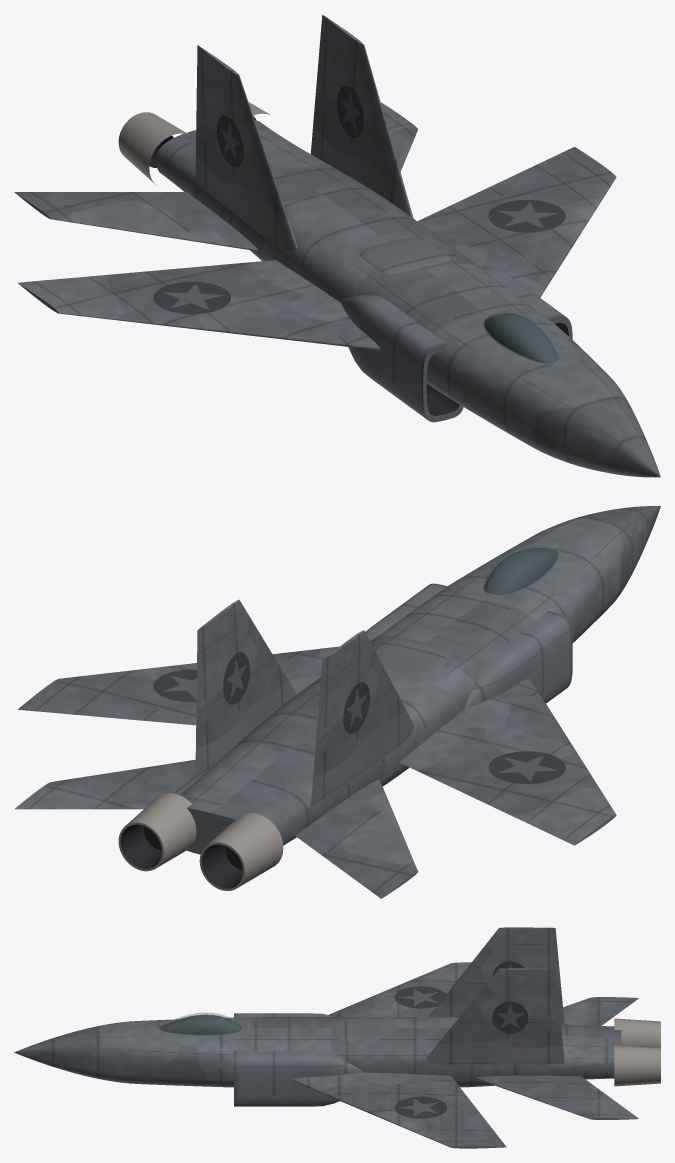
3 renders of one model, top to bottom at view 1: azimuth 30°, elevation 25°; view 2: azimuth 150°, elevation 25°; view 3: azimuth 270°, elevation 25°, orthographic. The views are drawn at different scales.
Visible parts, largest first — view 1: Fuselage, Wing0_R, Wing0_L, Fin2_R, Fin2_L, Htail1_R, Intake_R, Canopy, Nozzle_R, Cockpit, Airbrake, Decal_Wing_U_R (+5 smaller); view 2: Fuselage, Wing0_R, Fin2_R, Fin2_L, Wing0_L, Htail1_R, Intake_R, Htail1_L, Nozzle_R, Nozzle_L, Canopy, Cockpit (+6 smaller); view 3: Fuselage, Fin2_L, Wing0_L, Intake_L, Fin2_R, Htail1_L, Wing0_R, Nozzle_L, Htail1_R, Canopy, Cockpit, Nozzle_R (+5 smaller).
Boxes of the visible parts, x1,y1,x2,y2 form: Fuselage: [156, 120, 660, 477]; Wing0_R: [17, 260, 380, 350]; Wing0_L: [417, 147, 616, 297]; Fin2_R: [195, 45, 297, 251]; Fin2_L: [310, 14, 413, 218]; Htail1_R: [14, 192, 258, 251]; Intake_R: [341, 295, 463, 422]; Canopy: [483, 311, 559, 364]; Nozzle_R: [118, 112, 189, 185]; Cockpit: [484, 313, 558, 363]; Airbrake: [359, 237, 450, 274]; Decal_Wing_U_R: [153, 281, 230, 314]; Fuselage: [180, 506, 660, 854]; Wing0_R: [399, 678, 616, 845]; Fin2_R: [311, 630, 414, 806]; Fin2_L: [195, 599, 296, 778]; Wing0_L: [18, 646, 339, 725]; Htail1_R: [295, 779, 417, 898]; Intake_R: [465, 611, 572, 709]; Htail1_L: [14, 759, 206, 809]; Nozzle_R: [199, 813, 283, 890]; Nozzle_L: [118, 793, 196, 871]; Canopy: [483, 546, 559, 595]; Cockpit: [484, 548, 558, 595]; Fuselage: [14, 1017, 621, 1087]; Fin2_L: [426, 968, 564, 1065]; Wing0_L: [291, 1072, 506, 1148]; Intake_L: [234, 1051, 362, 1106]; Fin2_R: [429, 927, 564, 1024]; Htail1_L: [476, 1075, 638, 1119]; Wing0_R: [328, 962, 471, 1016]; Nozzle_L: [614, 1045, 660, 1086]; Htail1_R: [563, 997, 638, 1025]; Canopy: [158, 1012, 242, 1035]; Cockpit: [159, 1014, 242, 1034]; Nozzle_R: [614, 1018, 660, 1047].
Size of the model in its own units: 13.05 by 4.55 by 19.43.
Materials: 6 (2 with a texture image).
